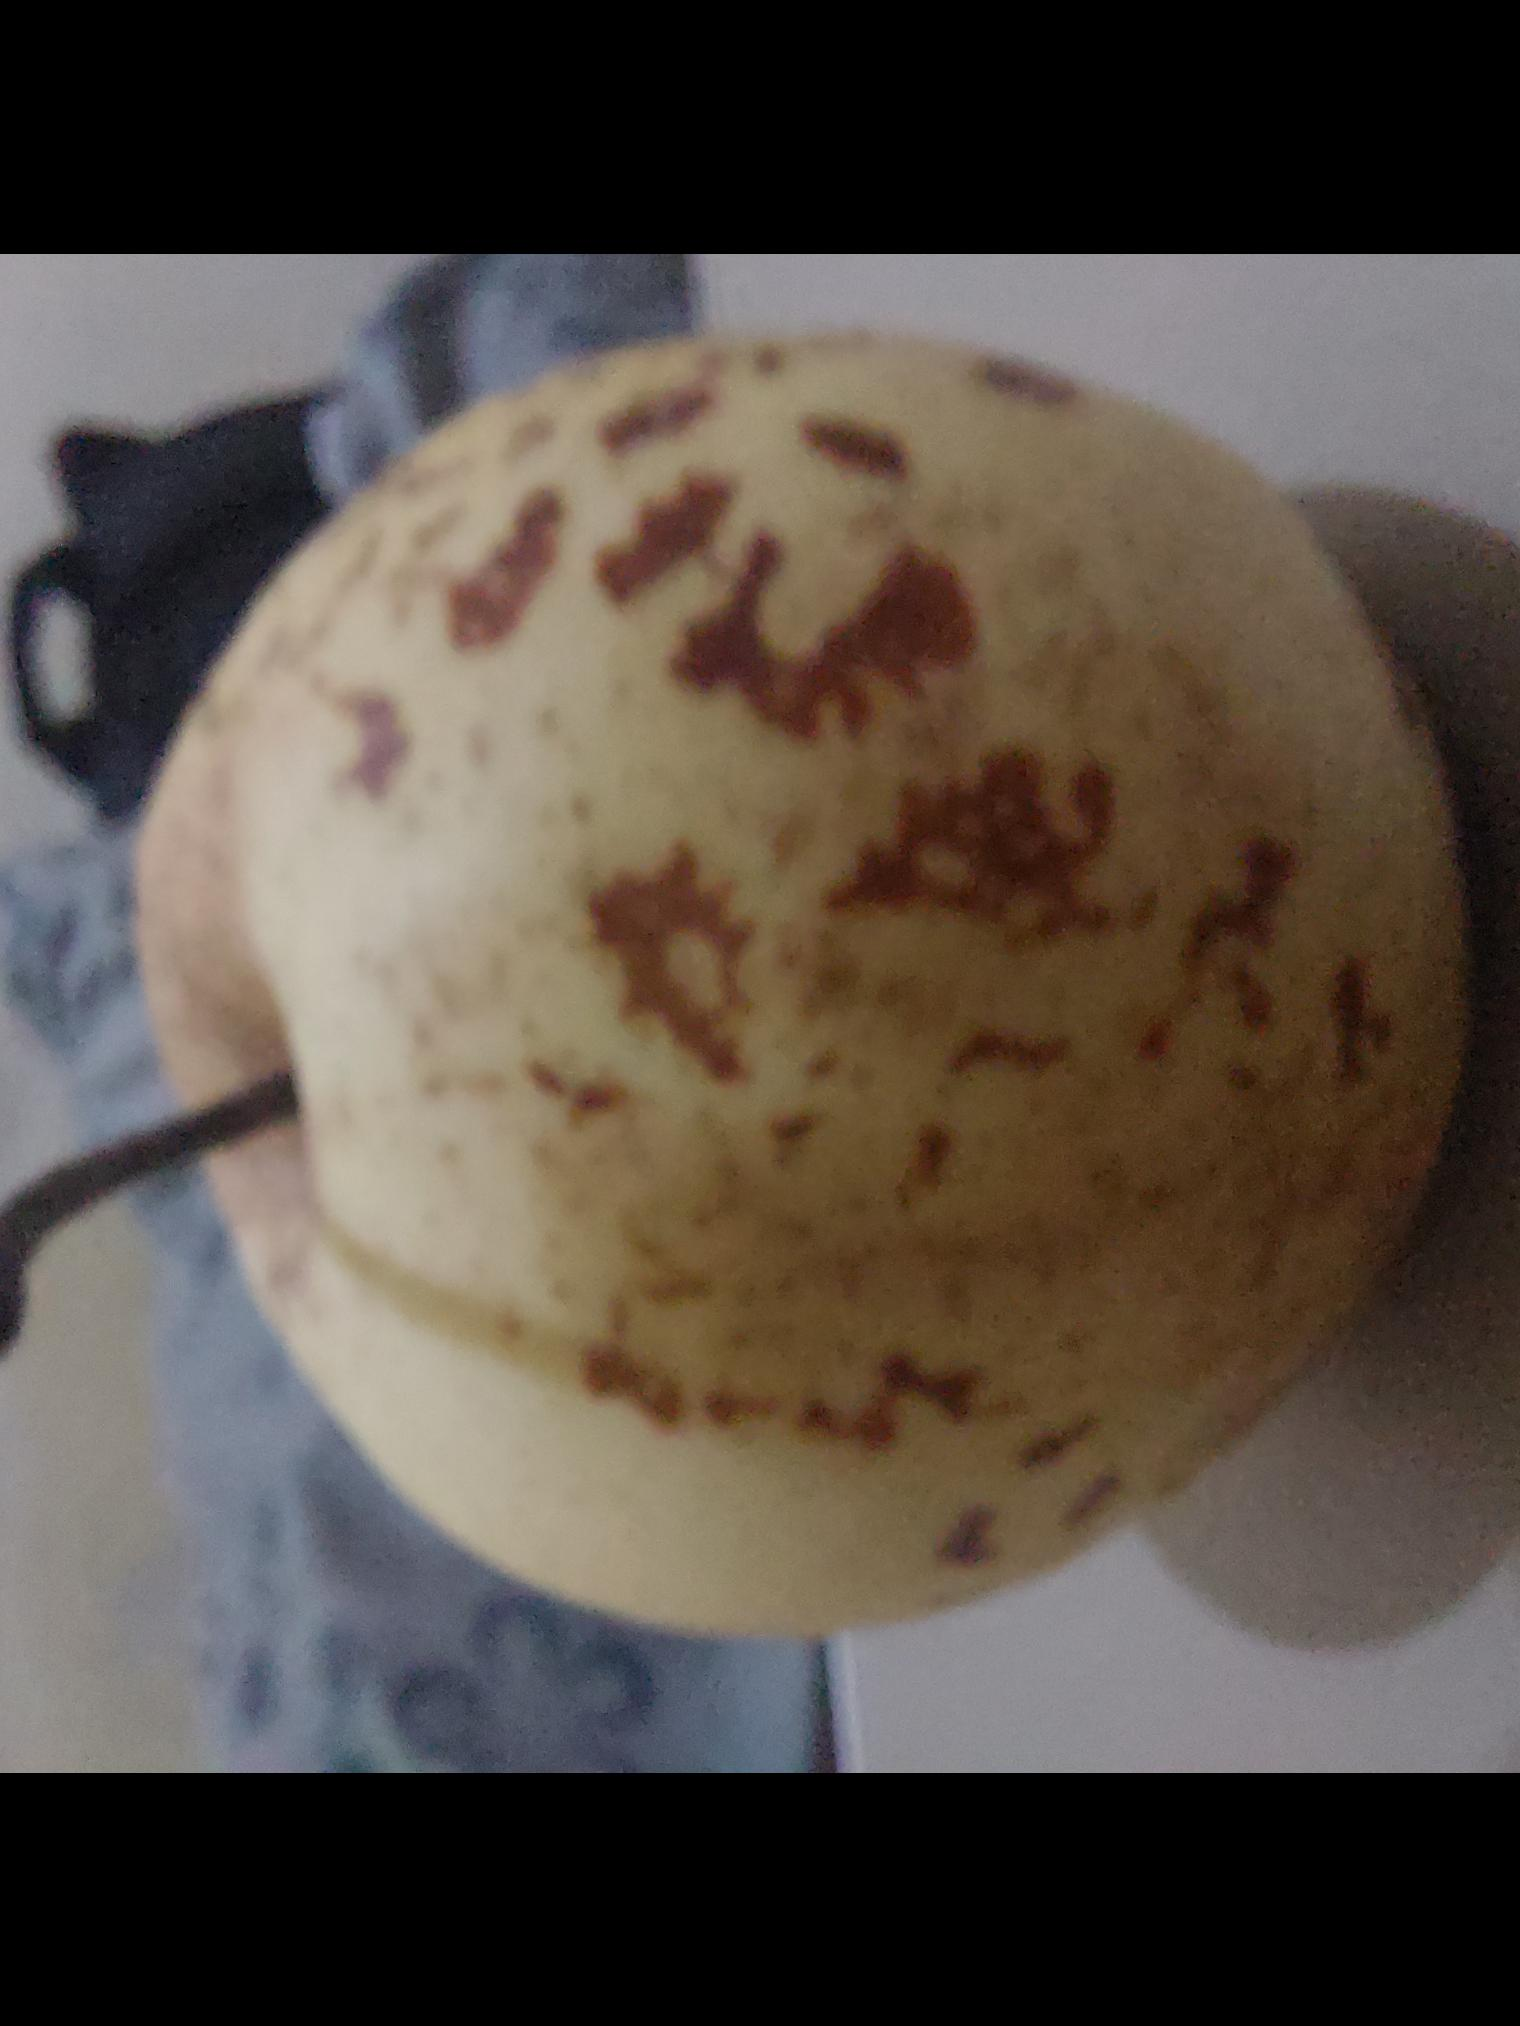Bad Pear: (0, 326, 1520, 1656)
